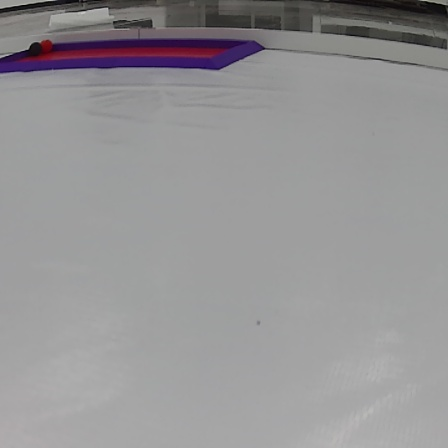black: (29, 43, 43, 55)
red: (40, 39, 57, 53)
red_aim: (0, 40, 261, 73)
